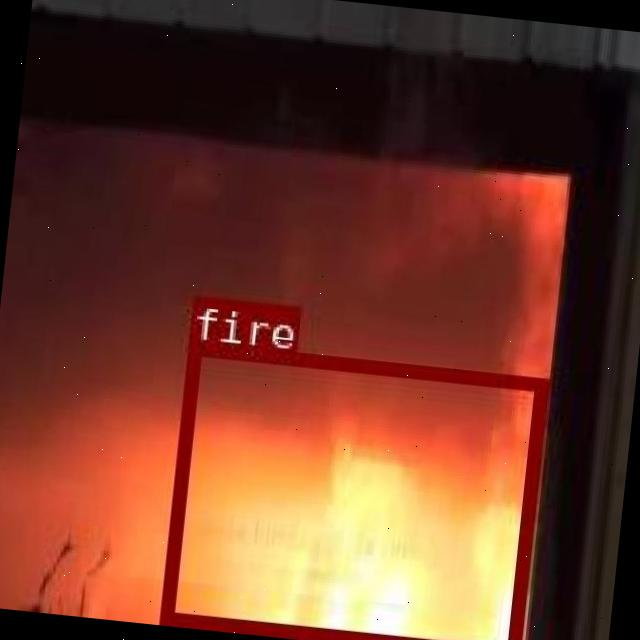fire: (157, 340, 544, 640)
